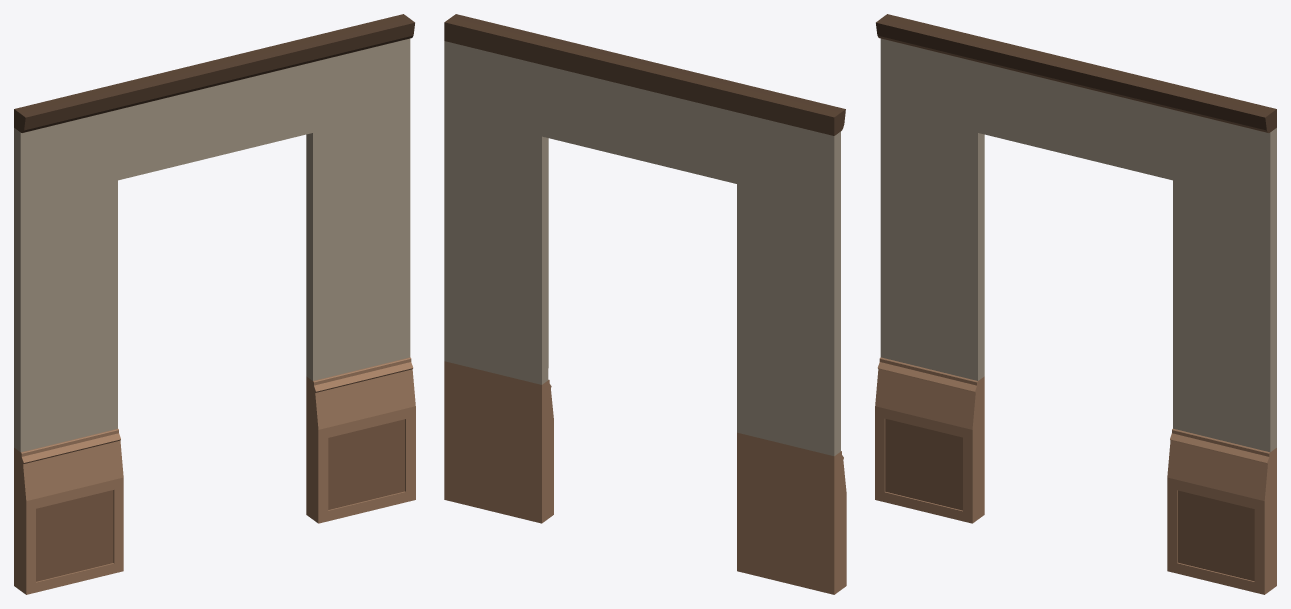
File: WallDoorFrame_Textured.fbx
3 views of the same model, side by side, from view 1: azimuth 30°, elevation 25°; view 2: azimuth 150°, elevation 25°; view 3: azimuth 330°, elevation 25° (orthographic).
Parts seen in each view (by area): view 1: Wall DoorFrame; view 2: Wall DoorFrame; view 3: Wall DoorFrame.
Part boxes in pixels (x1=…): Wall DoorFrame: x1=14, y1=14, x2=415, y2=594; Wall DoorFrame: x1=444, y1=14, x2=846, y2=594; Wall DoorFrame: x1=875, y1=14, x2=1276, y2=594.
Bounding box in the file's own units: 393 × 460 × 21.26.
